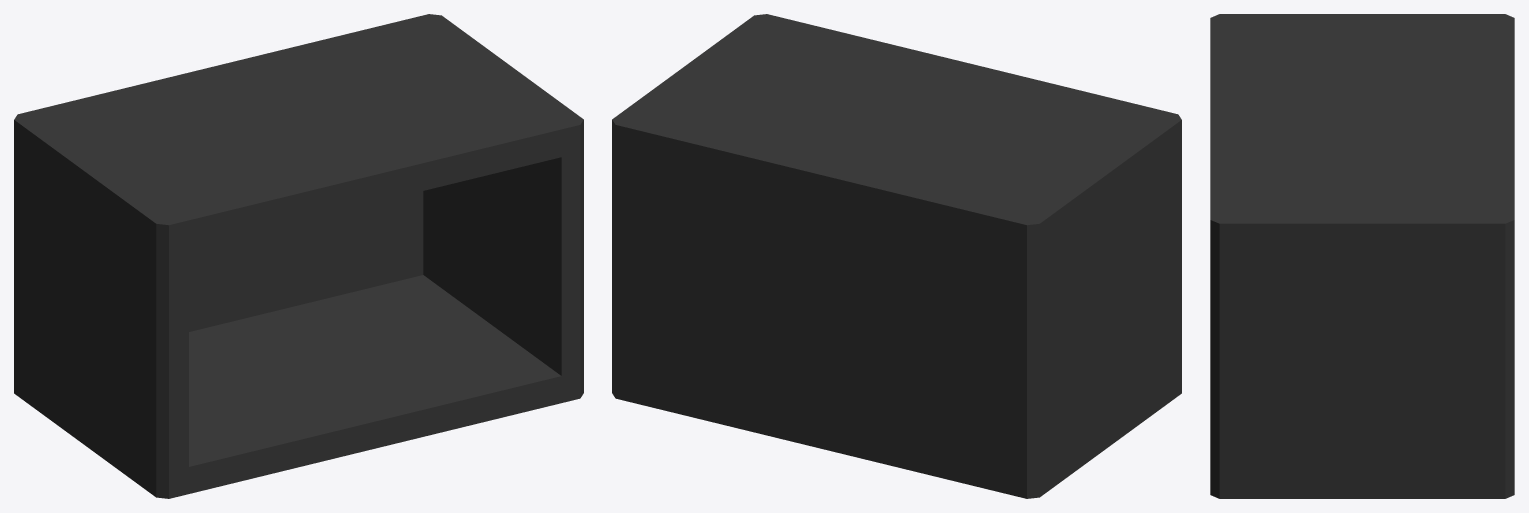
The model's file is Safe_Box_Part.fbx.
3 views of the same model, side by side, from view 1: azimuth 30°, elevation 25°; view 2: azimuth 150°, elevation 25°; view 3: azimuth 270°, elevation 25° (orthographic).
Visible parts, largest first — view 1: pasted__box; view 2: pasted__box; view 3: pasted__box.
Part boxes in pixels (bbox=[...]): pasted__box: bbox=[14, 14, 583, 498]; pasted__box: bbox=[612, 14, 1181, 498]; pasted__box: bbox=[1210, 14, 1514, 498].
Size of the model in its own units: 1.65 by 1.01 by 1.01.
